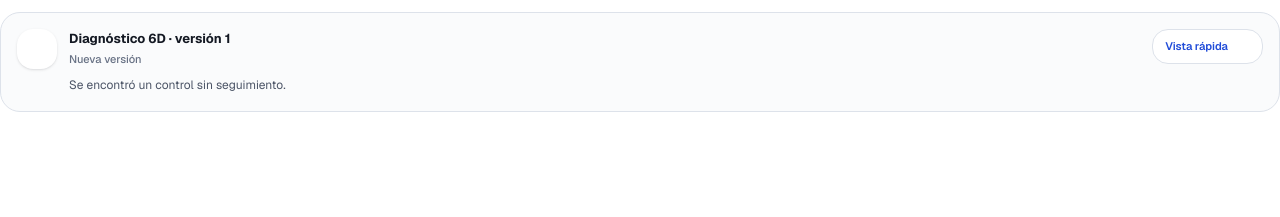
vista rápida de entregables en la conversación › lee el contenido propio de una versión anterior si la vista estructurada no está disponible
Click the button "Vista rápida": click(1208, 46) [1152,29,1263,64]
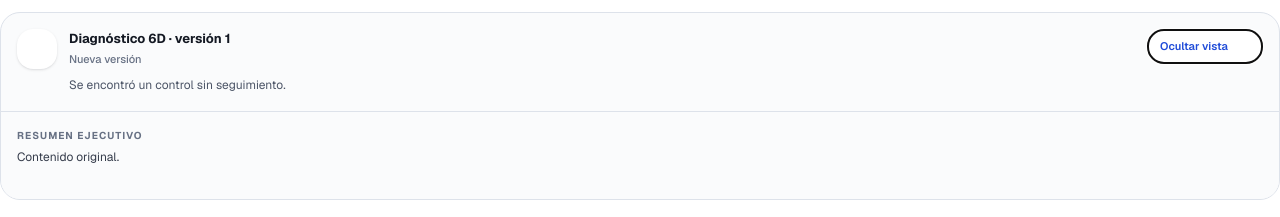
Expected: the text "Contenido original." is shown, [17,149,119,165]
